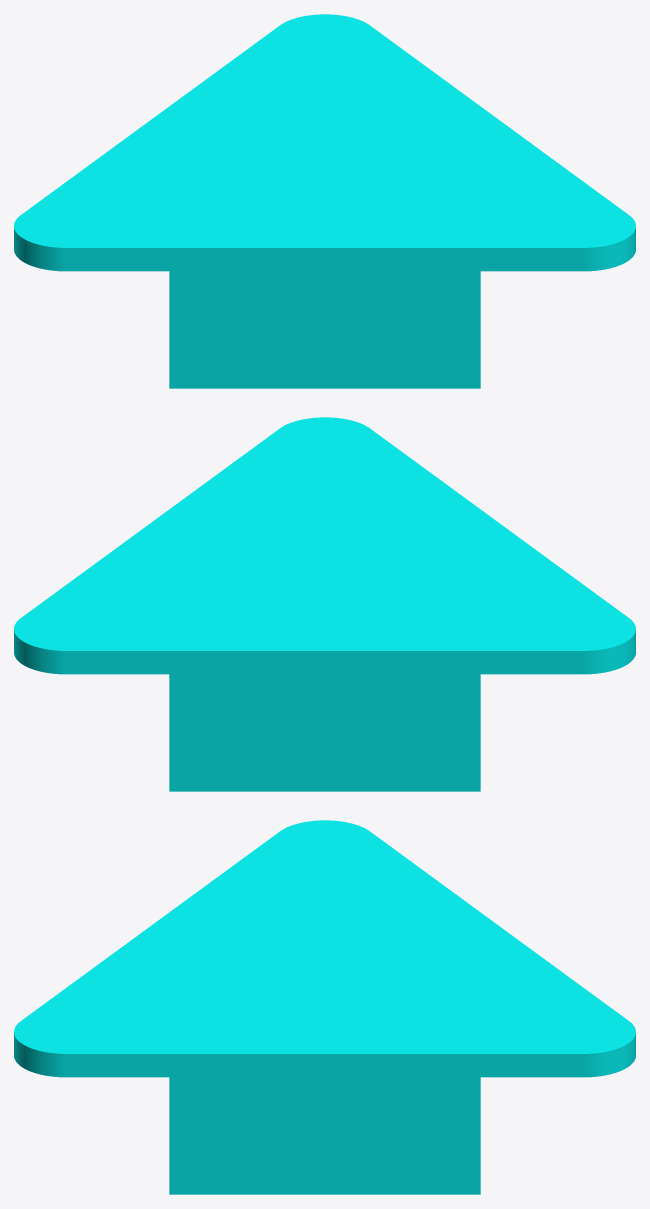
Rendered from roamr_chassis.dae.
The picture shows the model from 3 angles, top to bottom: view 1: azimuth 30°, elevation 25°; view 2: azimuth 150°, elevation 25°; view 3: azimuth 270°, elevation 25°; orthographic projection.
Visible parts, largest first — view 1: node0; view 2: node0; view 3: node0.
Boxes of the visible parts, x1,y1,x2,y2 form: node0: (14,14,635,388); node0: (14,417,635,791); node0: (14,820,635,1194).
Bounding box in the file's own units: 0.2132 × 0.24 × 0.08.
